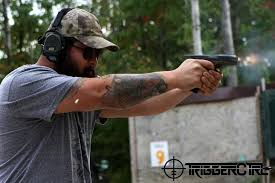Gun: (192, 51, 240, 75)
